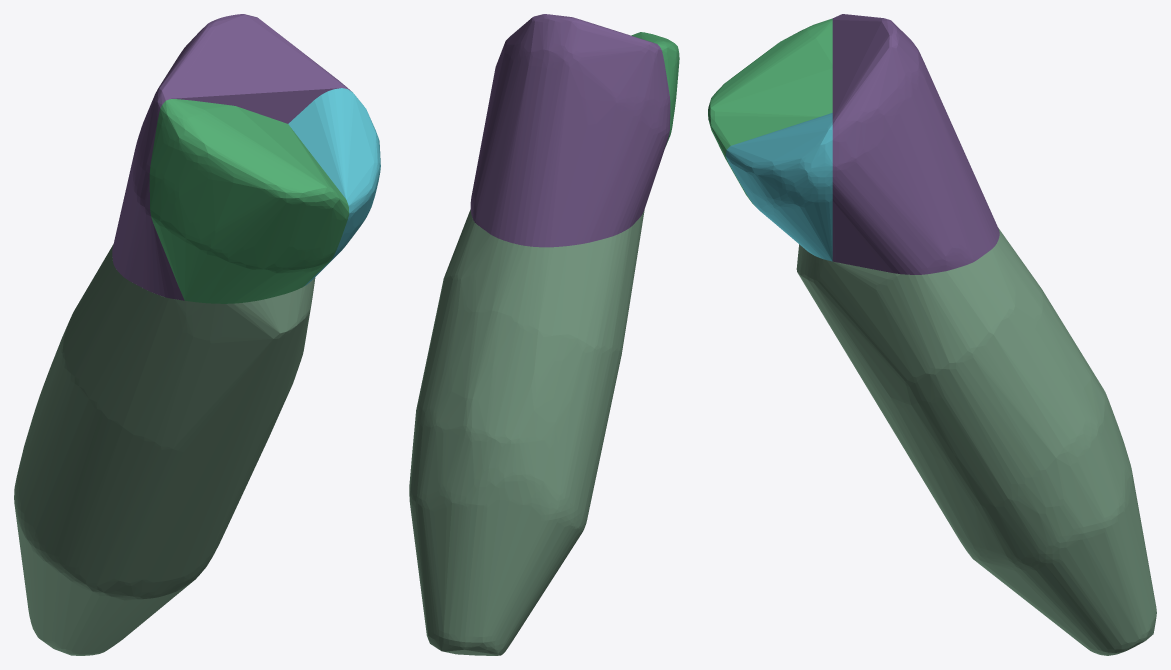
Rendered from 0_decomposed.obj.
The picture shows the model from 3 angles, left to right: view 1: azimuth 30°, elevation 25°; view 2: azimuth 150°, elevation 25°; view 3: azimuth 270°, elevation 25°; orthographic projection. The views are drawn at different scales.
Visible parts, largest first — view 1: geometry_0, geometry_3, geometry_1, geometry_2; view 2: geometry_0, geometry_1, geometry_3; view 3: geometry_0, geometry_1, geometry_3, geometry_2.
Boxes of the visible parts, left/top/right/bottom form: geometry_0: left=14, top=244, right=315, bottom=655; geometry_3: left=149, top=99, right=349, bottom=303; geometry_1: left=112, top=14, right=351, bottom=300; geometry_2: left=288, top=88, right=380, bottom=285; geometry_0: left=409, top=209, right=644, bottom=655; geometry_1: left=470, top=14, right=670, bottom=247; geometry_3: left=631, top=32, right=679, bottom=146; geometry_0: left=796, top=228, right=1156, bottom=655; geometry_1: left=832, top=14, right=999, bottom=274; geometry_3: left=708, top=18, right=832, bottom=211; geometry_2: left=725, top=113, right=832, bottom=261.
Bounding box in the file's own units: 0.0634 × 0.1971 × 0.1274.
